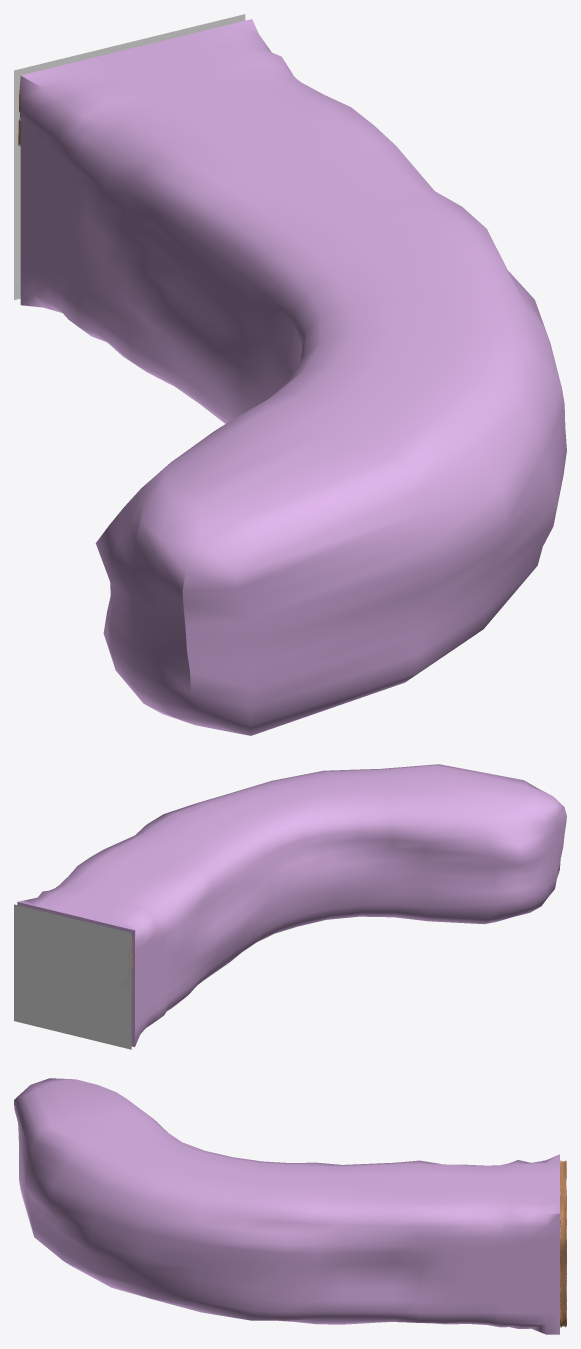
3 views of the same model, one above another, from view 1: azimuth 30°, elevation 25°; view 2: azimuth 150°, elevation 25°; view 3: azimuth 270°, elevation 25° (orthographic). The views are drawn at different scales.
Visible parts, largest first — view 1: Wallsdestoryed; view 2: Wallsdestoryed; view 3: Wallsdestoryed.
Boxes of the visible parts, bbox=[...] form: Wallsdestoryed: bbox=[14, 14, 566, 735]; Wallsdestoryed: bbox=[14, 764, 566, 1049]; Wallsdestoryed: bbox=[14, 1078, 566, 1334].
Size of the model in its own units: 742 by 280 by 1159.
